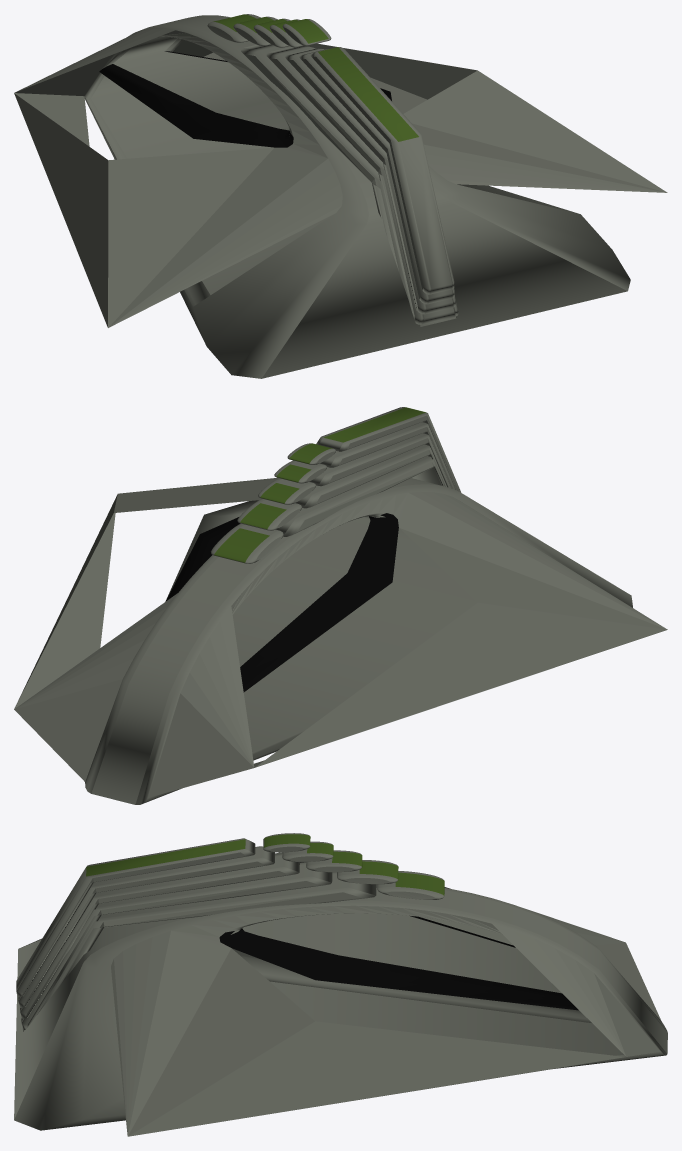
The model's file is enemies.fbx.
3 renders of one model, top to bottom at view 1: azimuth 30°, elevation 25°; view 2: azimuth 150°, elevation 25°; view 3: azimuth 270°, elevation 25°, orthographic. The views are drawn at different scales.
Visible parts, largest first — view 1: Text; view 2: Text; view 3: Text.
Part boxes in pixels (x1,y1,x2,y2): Text: [14, 14, 667, 378]; Text: [14, 407, 667, 804]; Text: [14, 833, 667, 1136].
Bounding box in the file's own units: 605 × 218 × 635.
